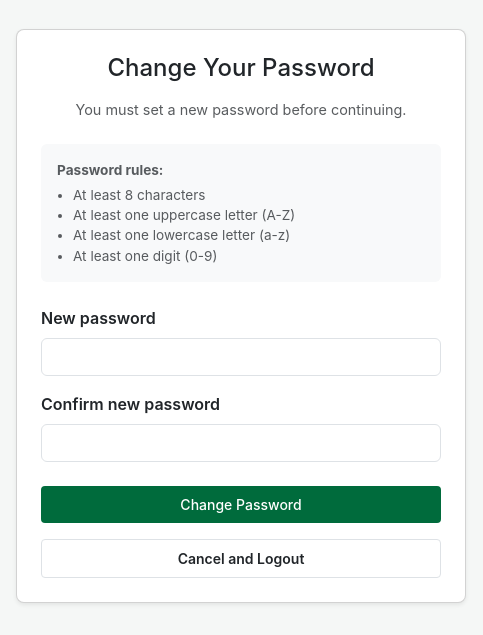
Scenario: shows server validation errors for weak password without closing screen
This screenshot has width=483, height=635.
Type "abc" into the password field labelled "New password" at (241, 357), box x1=41 y1=338 x2=441 y2=376
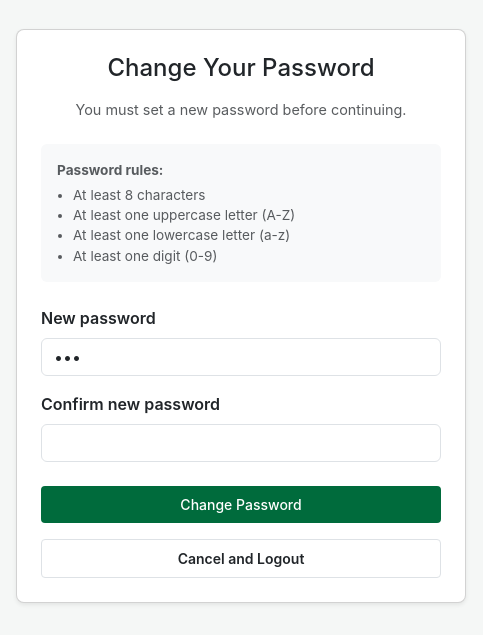
Type "abc" into the password field labelled "Confirm new password" at (241, 443), box x1=41 y1=424 x2=441 y2=462
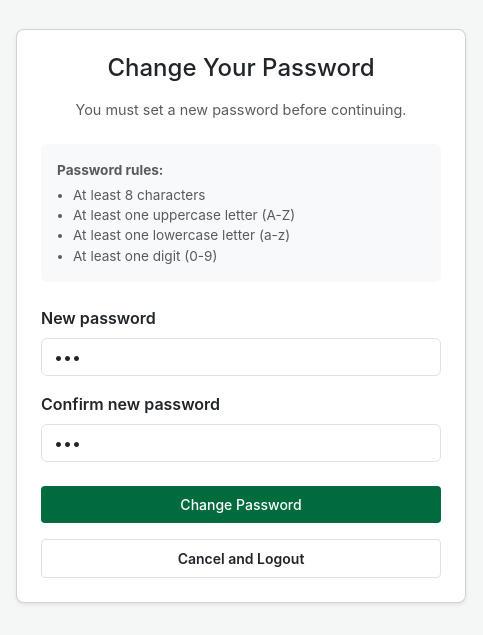
Click the button "Change Password" at (241, 505), box x1=41 y1=486 x2=441 y2=523
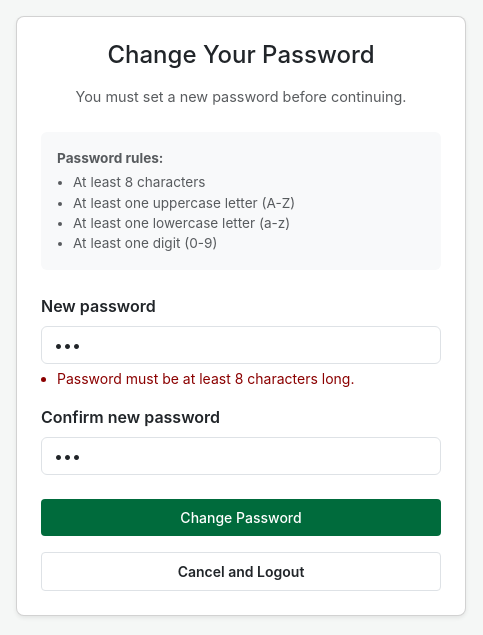
Now the list item "Password must be at least 8 characters long." is shown, box x1=57 y1=370 x2=354 y2=387
